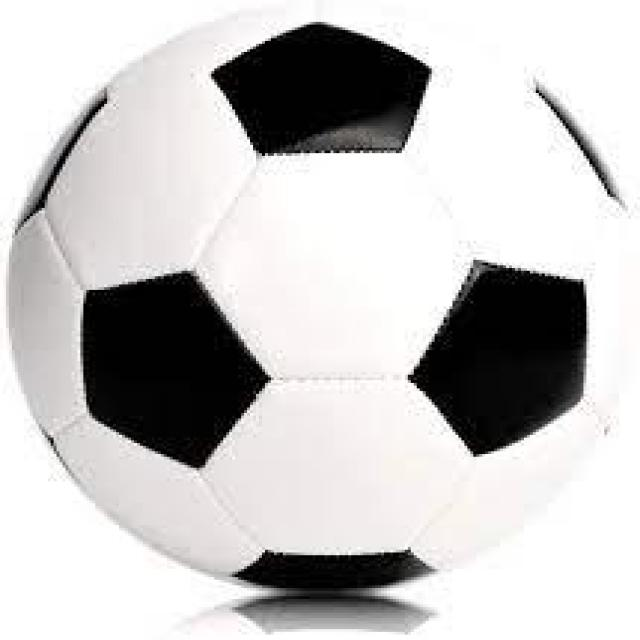Soccer Ball: (0, 6, 640, 594)
